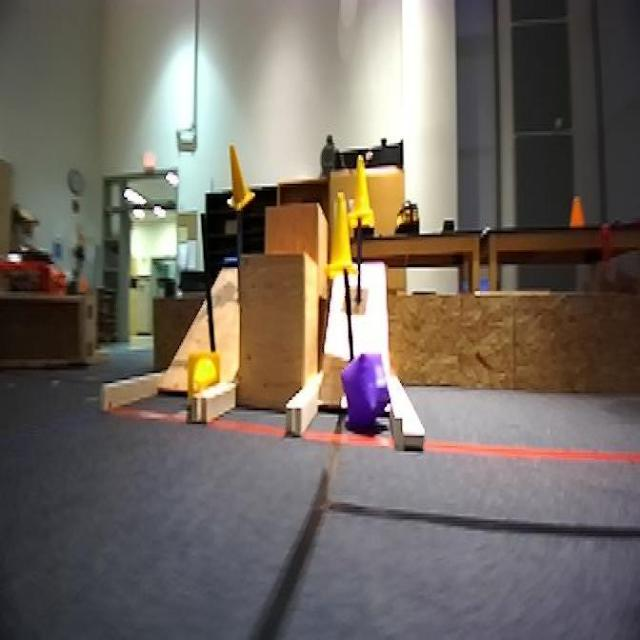frc_cone: (222, 141, 254, 216), (323, 201, 354, 277), (185, 352, 220, 408), (350, 156, 370, 220)
frc_cube: (337, 352, 390, 436)
